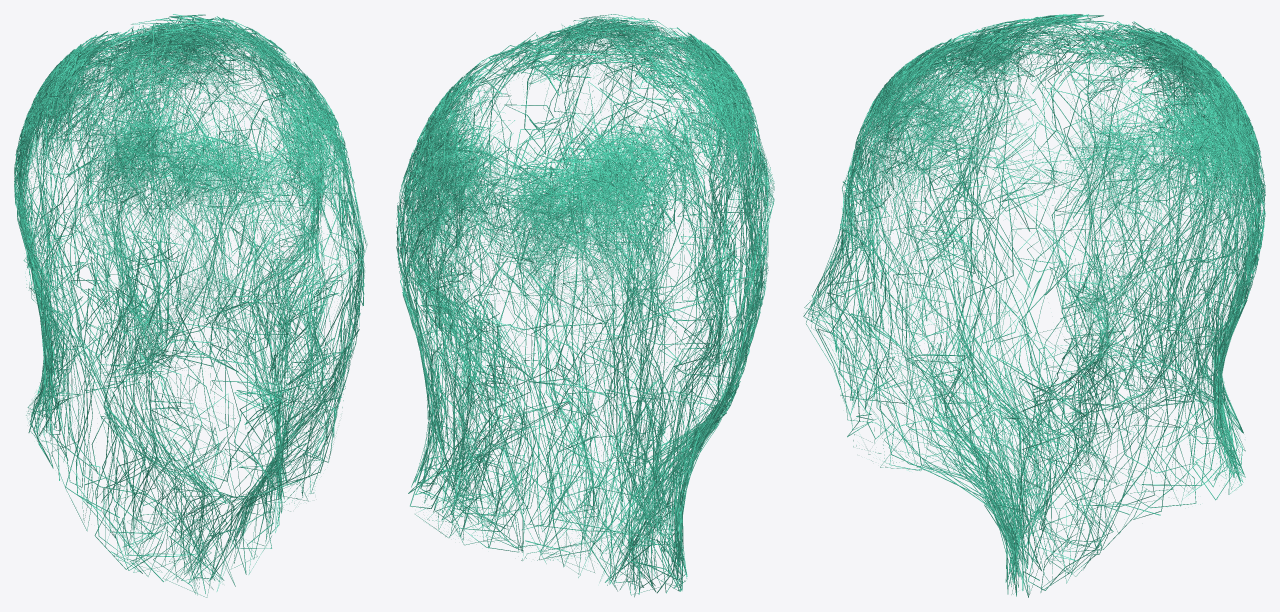
Rendered from portfolioProfile3.glb.
3 renders of one model, left to right at view 1: azimuth 30°, elevation 25°; view 2: azimuth 150°, elevation 25°; view 3: azimuth 270°, elevation 25°, orthographic. The views are drawn at different scales.
Parts seen in each view (by area): view 1: Plane; view 2: Plane; view 3: Plane.
Boxes of the visible parts, x1,y1,x2,y2 form: Plane: (14,14,367,597); Plane: (396,14,774,597); Plane: (803,14,1265,597).
Bounding box in the file's own units: 0.2335 × 0.4046 × 0.3033.
